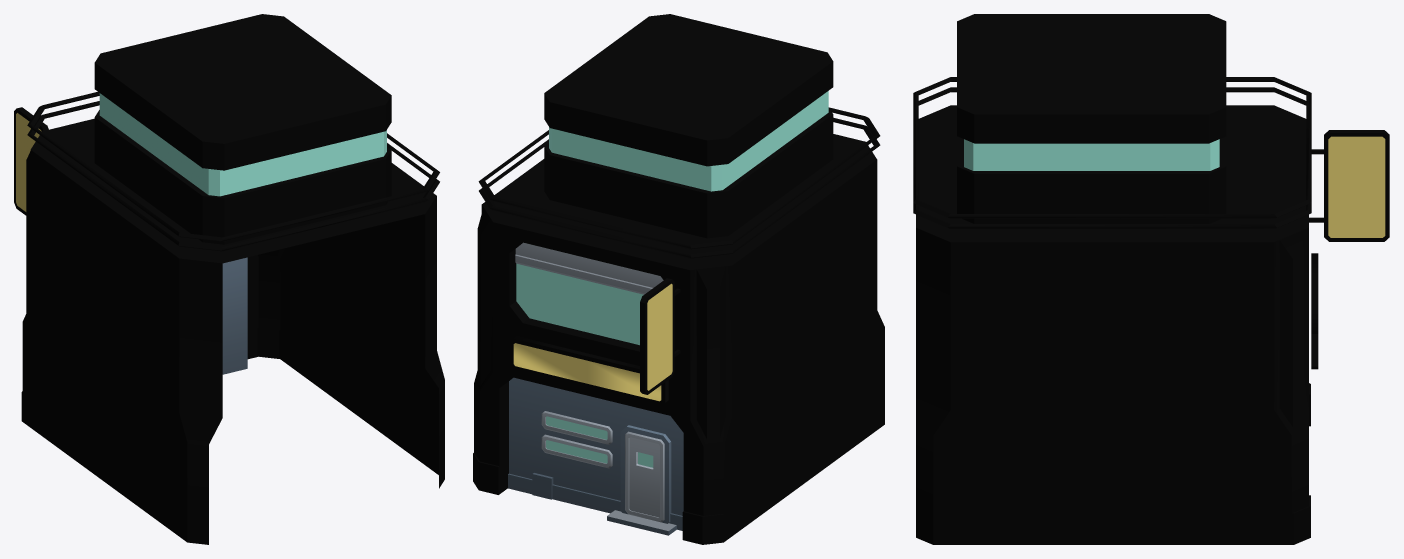
Rendered from Comercio_Edificio_07.FBX.
The picture shows the model from 3 angles, left to right: view 1: azimuth 30°, elevation 25°; view 2: azimuth 150°, elevation 25°; view 3: azimuth 270°, elevation 25°; orthographic projection. The views are drawn at different scales.
Visible parts, largest first — view 1: Comercio_Edificio_07; view 2: Comercio_Edificio_07; view 3: Comercio_Edificio_07.
Part boxes in pixels (x1,y1,x2,y2): Comercio_Edificio_07: [14, 14, 444, 544]; Comercio_Edificio_07: [473, 14, 884, 544]; Comercio_Edificio_07: [913, 14, 1389, 544].
Bounding box in the file's own units: 949 × 1374 × 1312.
